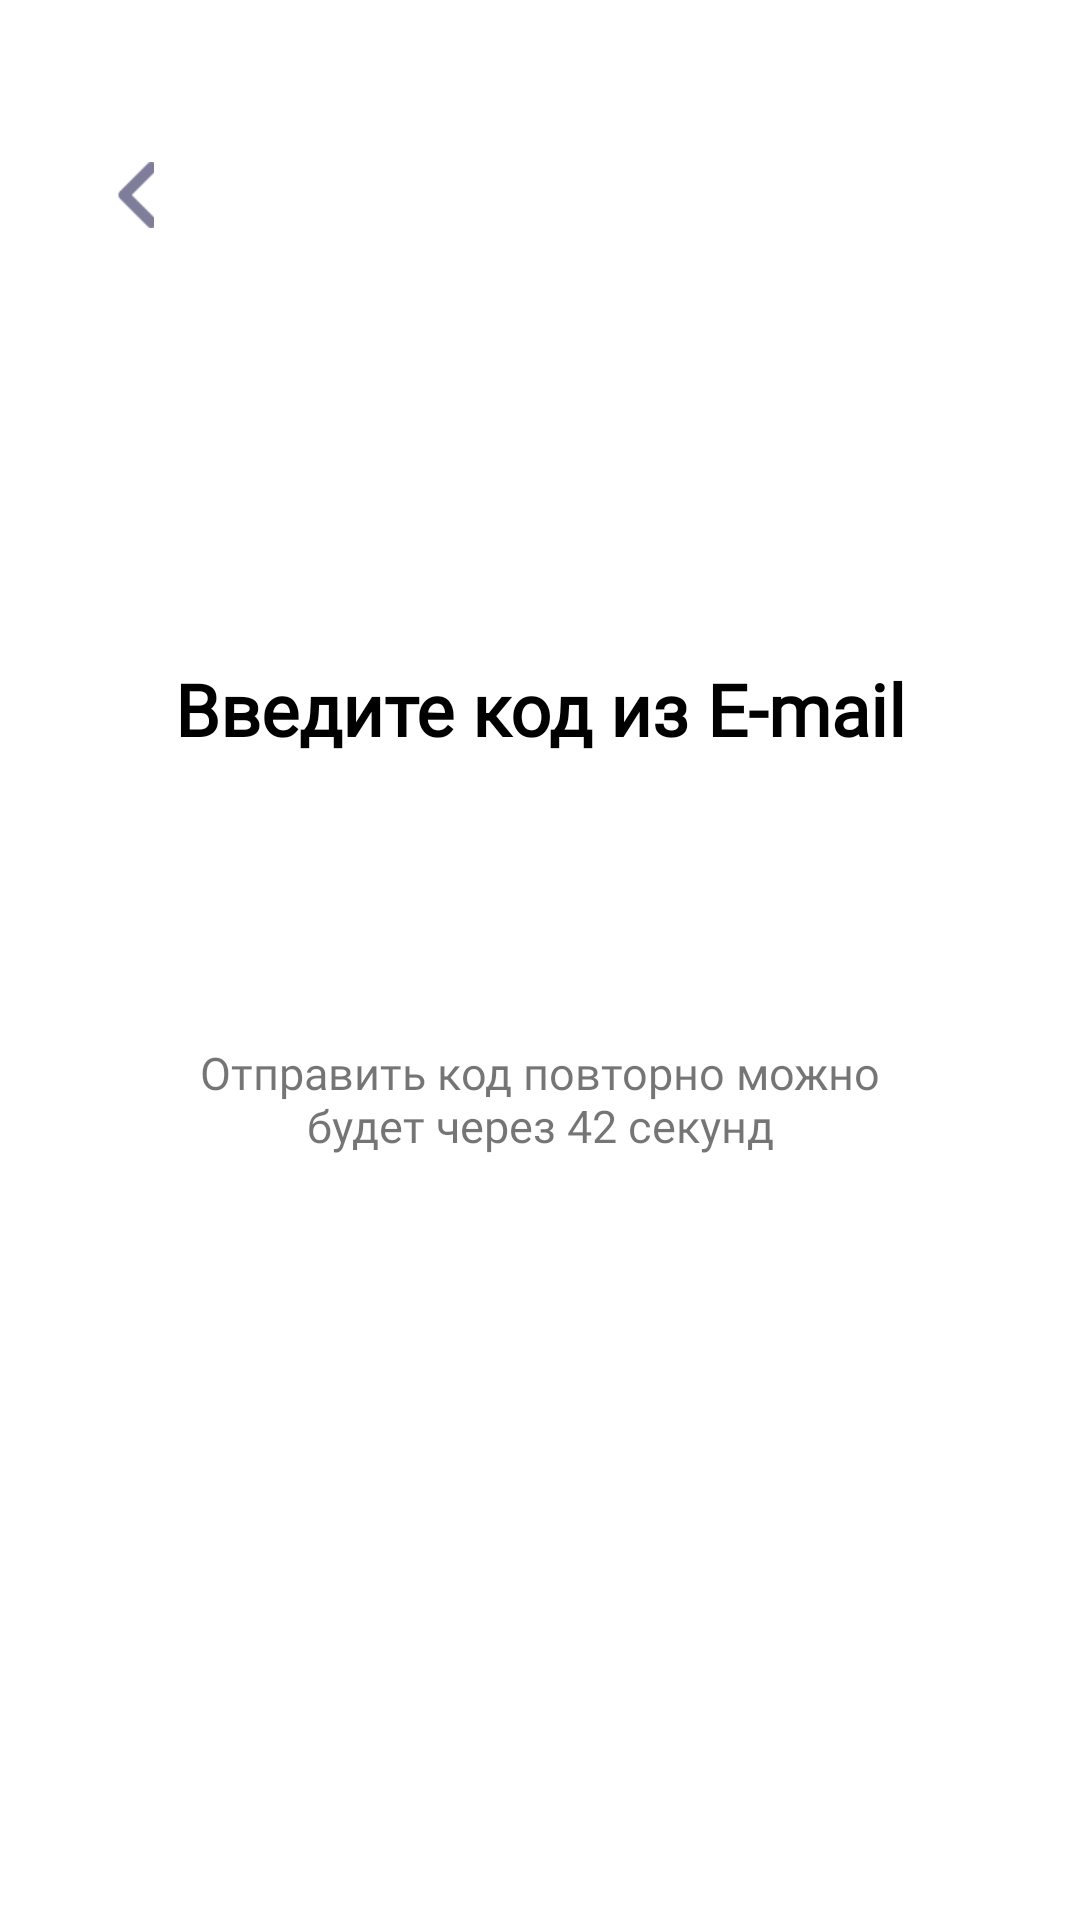

Icons on this 1080 x 1920 Android screen, each with its box as detection(x1, y1, x2, y2):
back: detection(118, 162, 154, 228)
